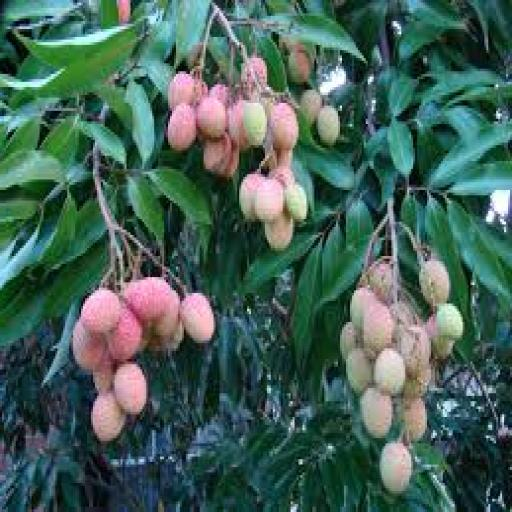lychee: (122, 278, 172, 324), (106, 307, 141, 361), (90, 391, 125, 443), (112, 362, 147, 414), (81, 288, 119, 335), (71, 320, 105, 372), (179, 293, 214, 343), (379, 441, 412, 493), (361, 301, 392, 356), (397, 325, 429, 377), (359, 388, 392, 438), (373, 349, 404, 395), (419, 259, 449, 306), (166, 103, 196, 150), (150, 291, 178, 340), (268, 103, 297, 150), (253, 177, 283, 221), (195, 98, 226, 139), (425, 315, 453, 358), (239, 172, 263, 221), (264, 212, 293, 250), (345, 349, 370, 393), (349, 288, 374, 332), (203, 135, 230, 174), (227, 101, 248, 150), (286, 43, 311, 84), (367, 262, 392, 303), (243, 101, 265, 147), (168, 72, 194, 110), (434, 304, 461, 340), (403, 365, 431, 398), (92, 349, 113, 393), (403, 399, 425, 440), (316, 106, 339, 145), (284, 183, 307, 221), (241, 56, 265, 92), (298, 90, 321, 126), (340, 322, 356, 361), (268, 167, 293, 190), (209, 85, 228, 108), (116, 0, 129, 23), (276, 151, 291, 168)
